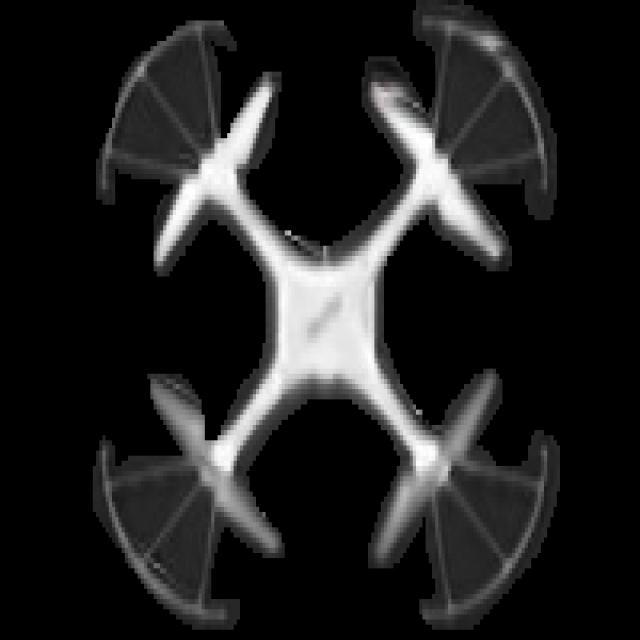drone: (72, 6, 600, 629)
